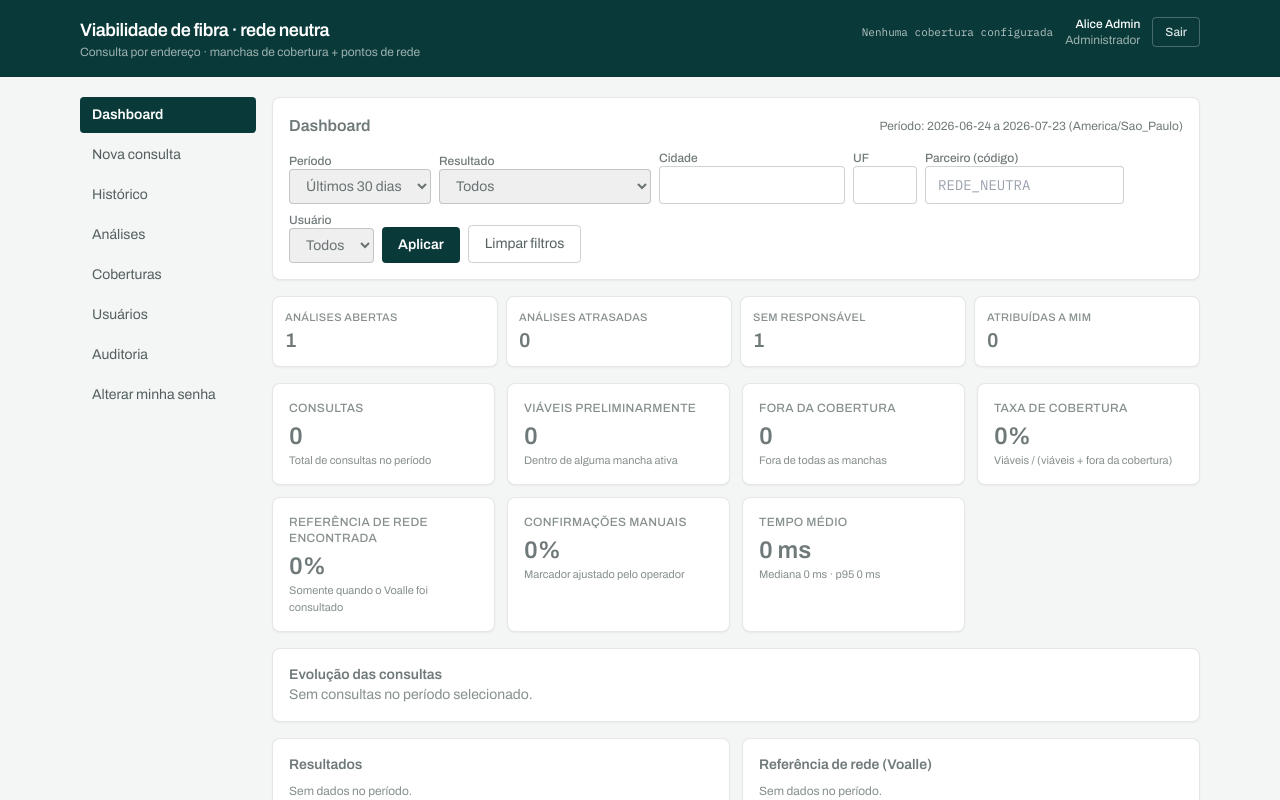
Test case: protocolo selecionado ao abrir o Histórico › fila → Histórico aplica o protocolo; menu manual NÃO reaplica; outro protocolo substitui
The width and height of the screenshot is (1280, 800).
Expected: the text "Alice Admin" is shown, x1=1065 y1=16 x2=1140 y2=32
Abrir protocolo A pela fila:
Click the button "Análises". click: (168, 235)
box: x1=80 y1=217 x2=256 y2=253
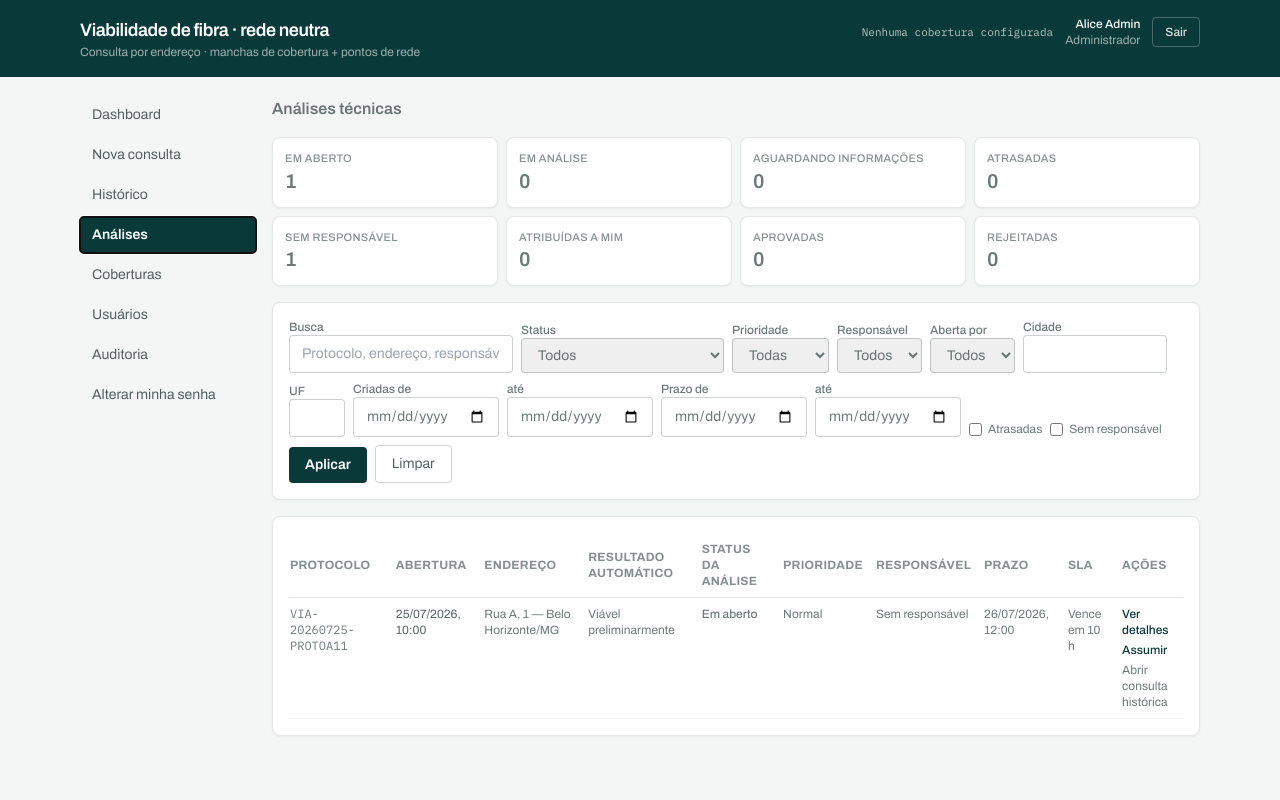
Click the button "Abrir consulta histórica". click: (1152, 686)
box: x1=1122 y1=662 x2=1182 y2=710
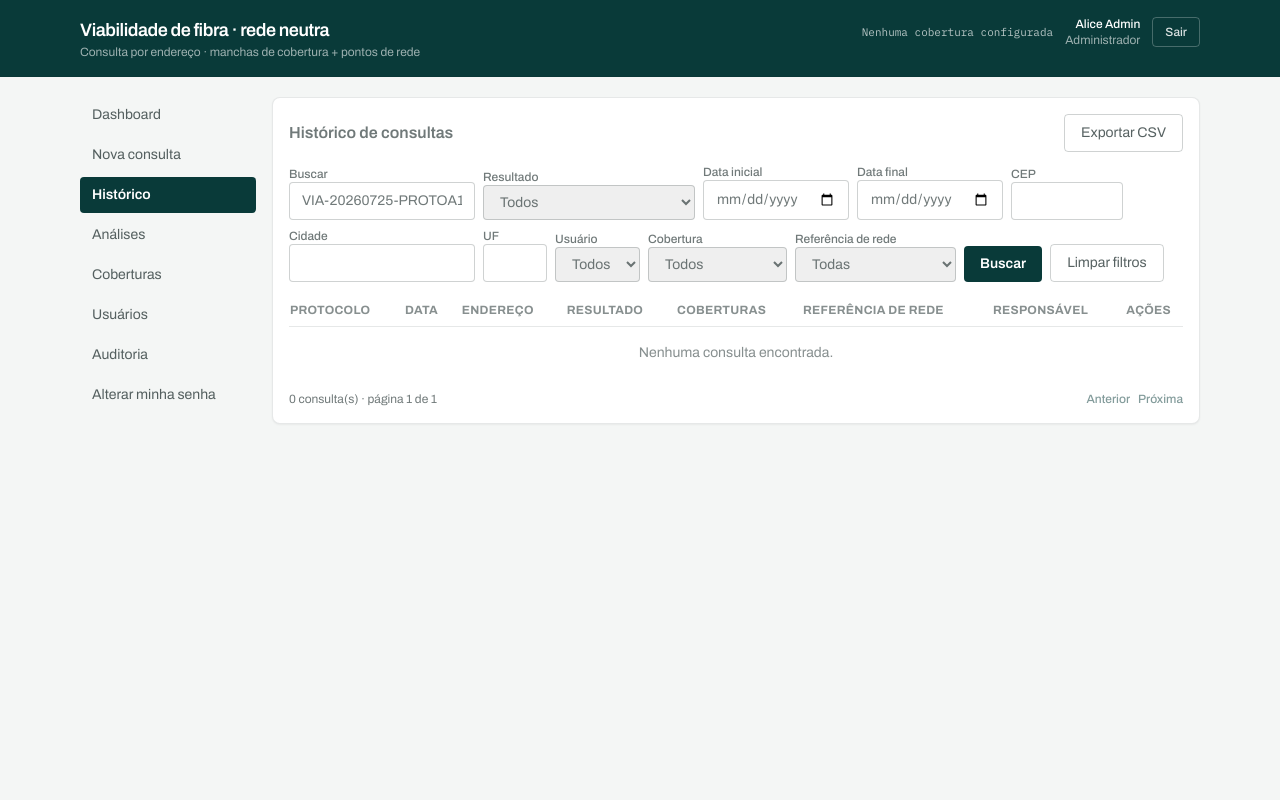
Expected: the field labelled "Buscar" holds "VIA-20260725-PROTOA11", x1=289 y1=182 x2=475 y2=220
Navegar ao Dashboard:
Click the button "Dashboard". click: (168, 115)
box: x1=80 y1=97 x2=256 y2=133
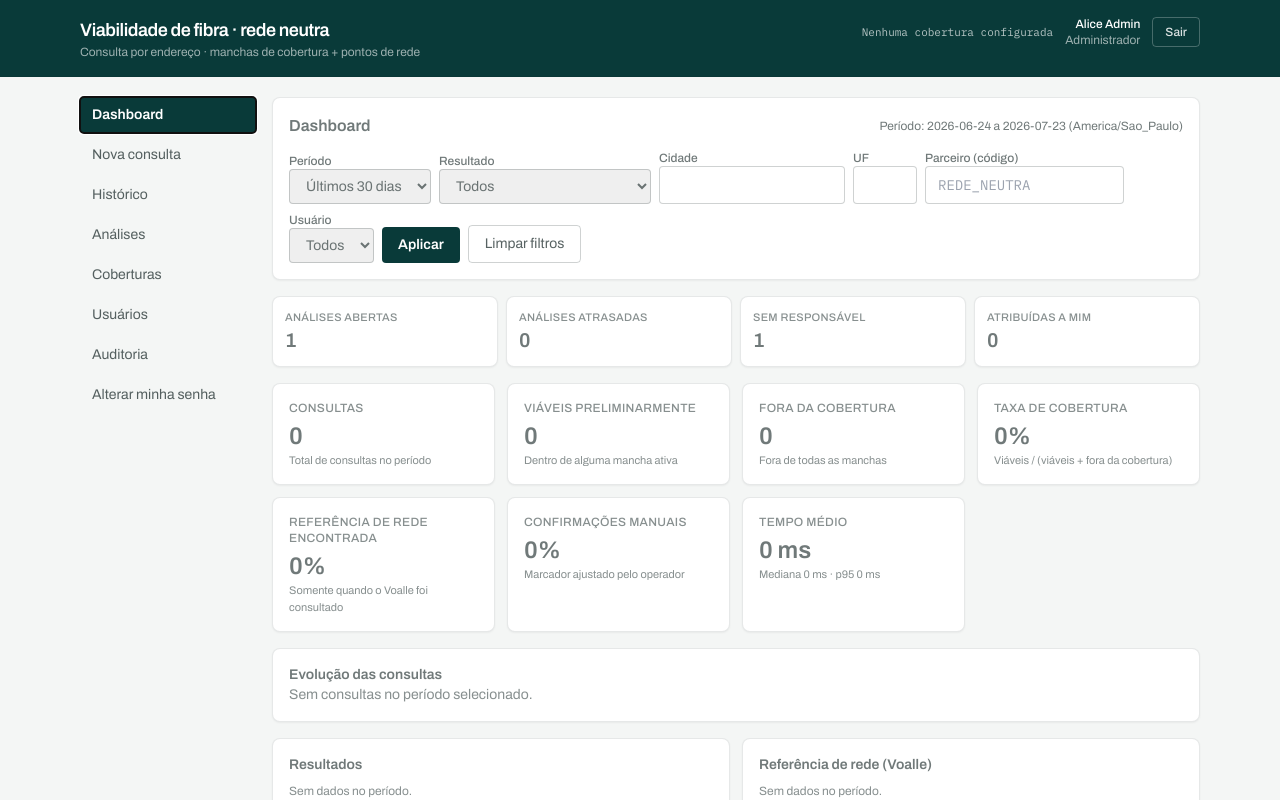
Expected: the element named "Indicadores principais" is shown, x1=272 y1=382 x2=1200 y2=632
4-5) Clicar manualmente em Histórico: o protocolo A NÃO é reaplicado.
Click the button "Histórico". click: (168, 195)
box: x1=80 y1=177 x2=256 y2=213
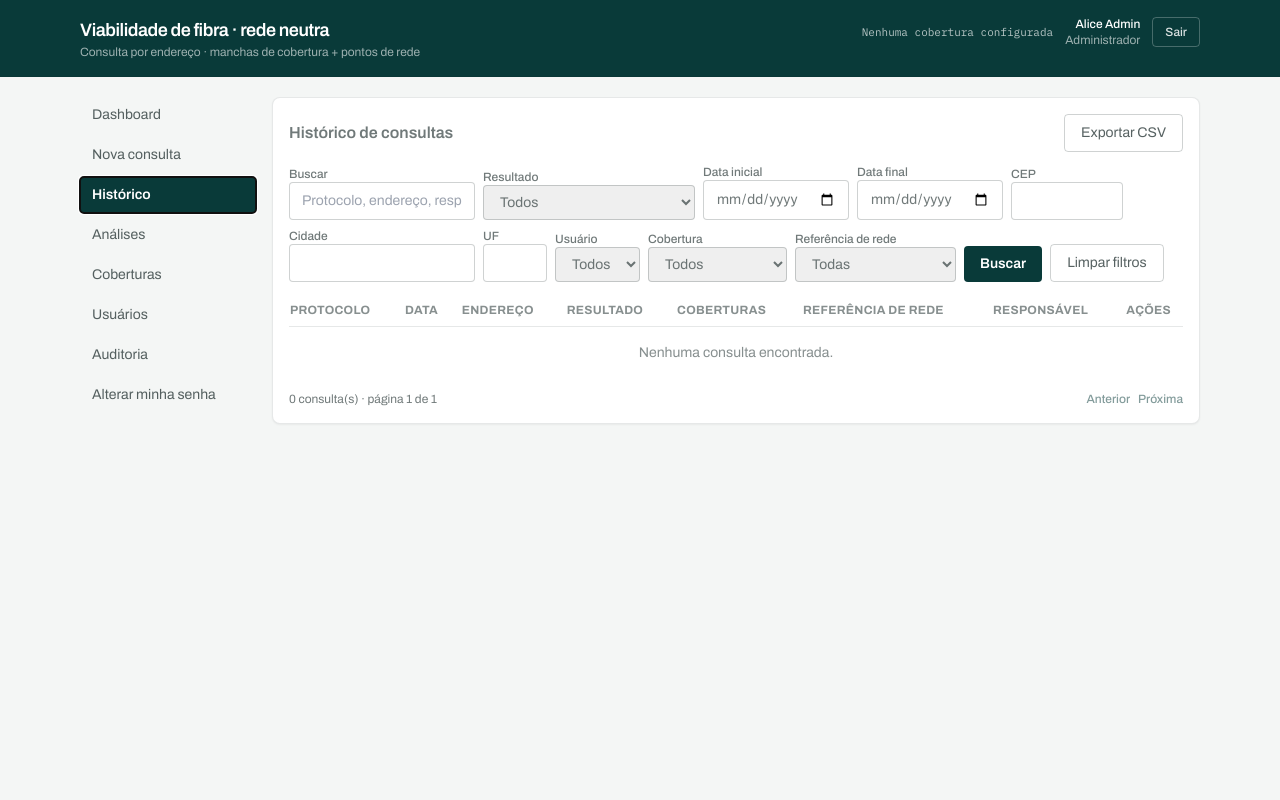
Expected: the field labelled "Buscar" is empty, x1=289 y1=182 x2=475 y2=220
Abrir o protocolo B pela fila substitui A:
Click the button "Análises". click: (168, 235)
box: x1=80 y1=217 x2=256 y2=253
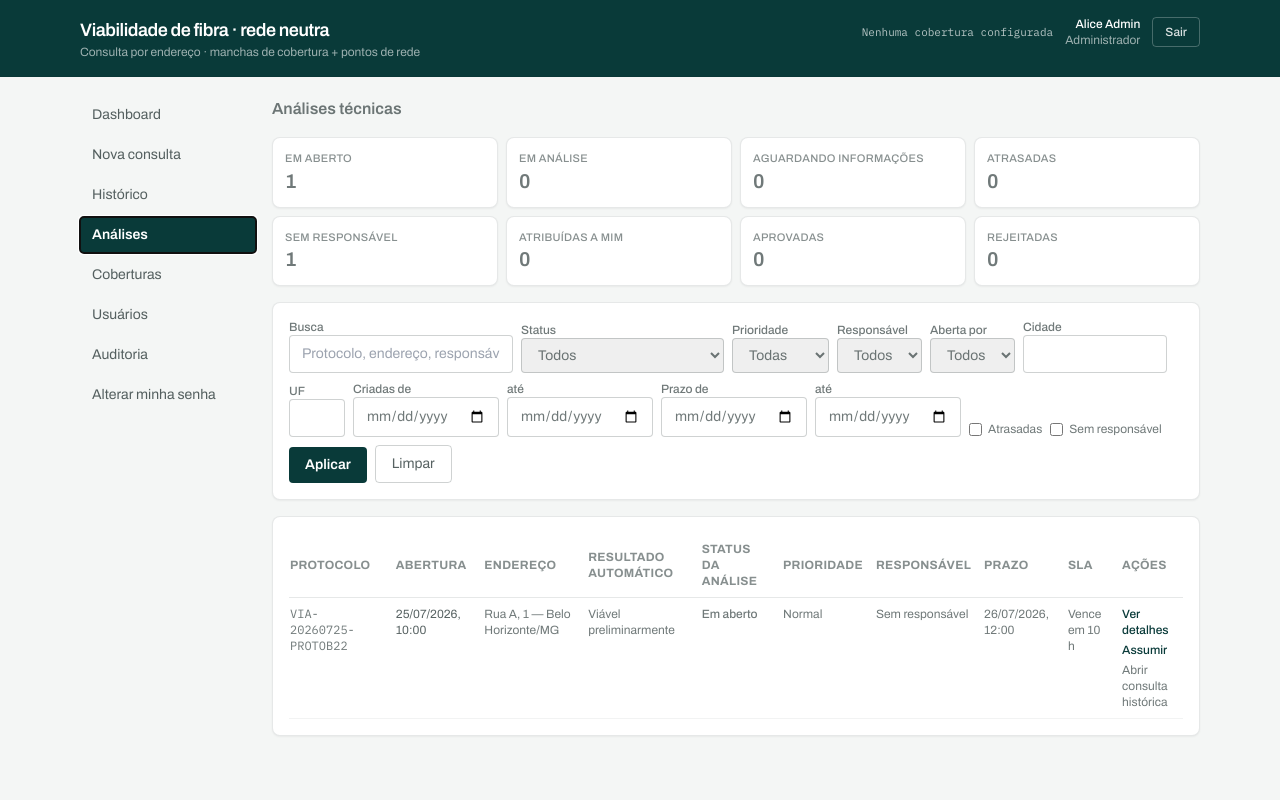
Click the button "Abrir consulta histórica". click: (1152, 686)
box: x1=1122 y1=662 x2=1182 y2=710
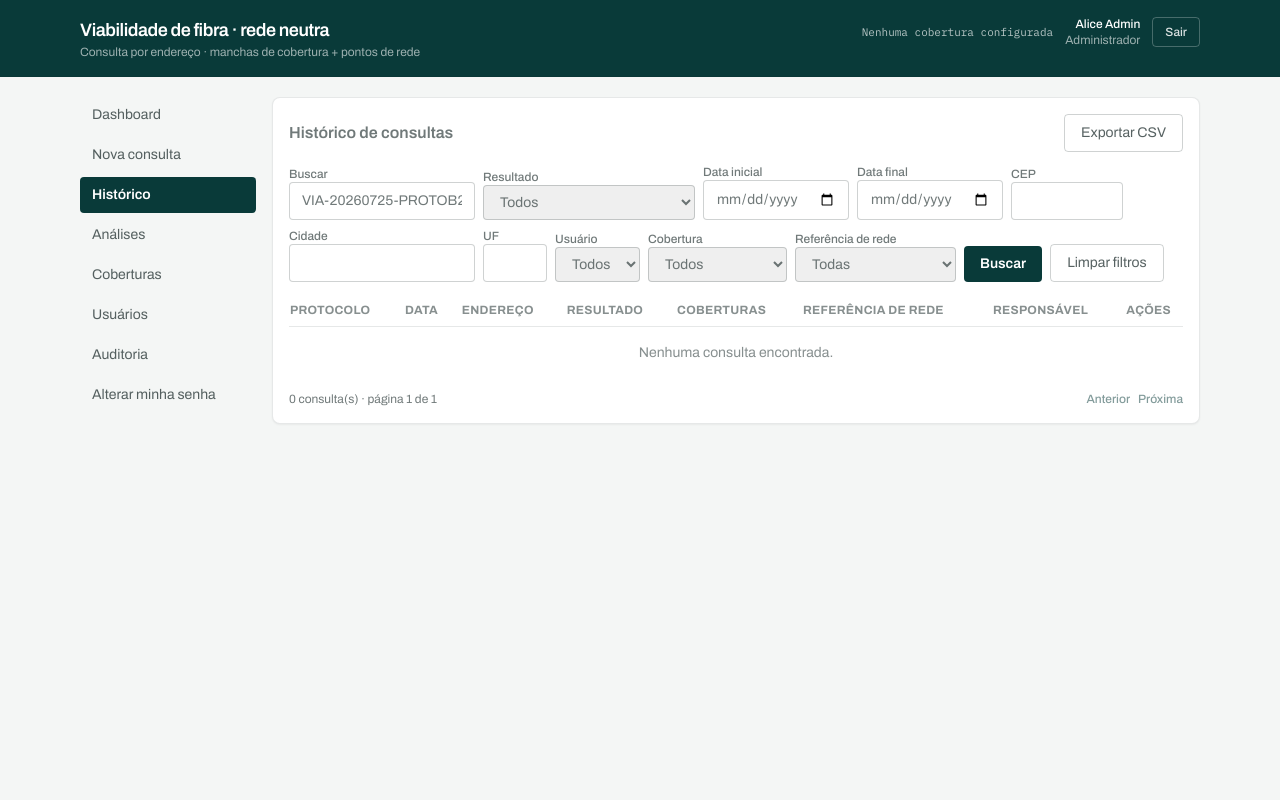
Expected: the field labelled "Buscar" holds "VIA-20260725-PROTOB22", x1=289 y1=182 x2=475 y2=220
